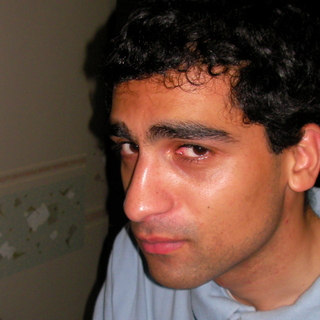eye: (169, 140, 219, 164), (114, 139, 140, 160)
